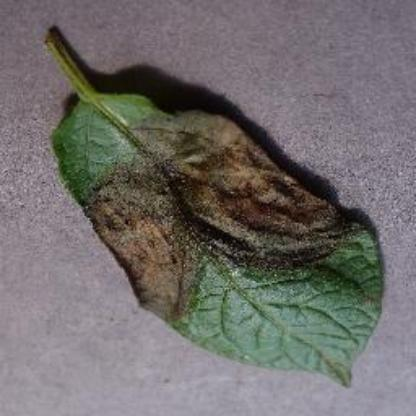Late-Blight: (37, 23, 388, 390)
